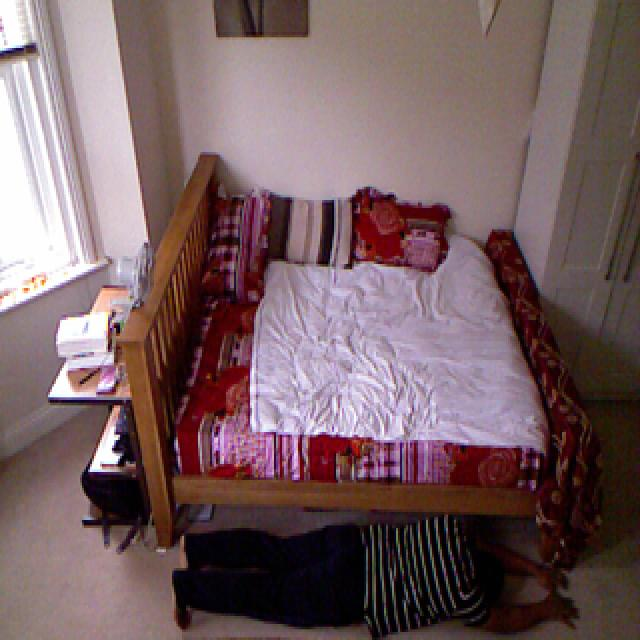lying: (167, 520, 577, 639)
